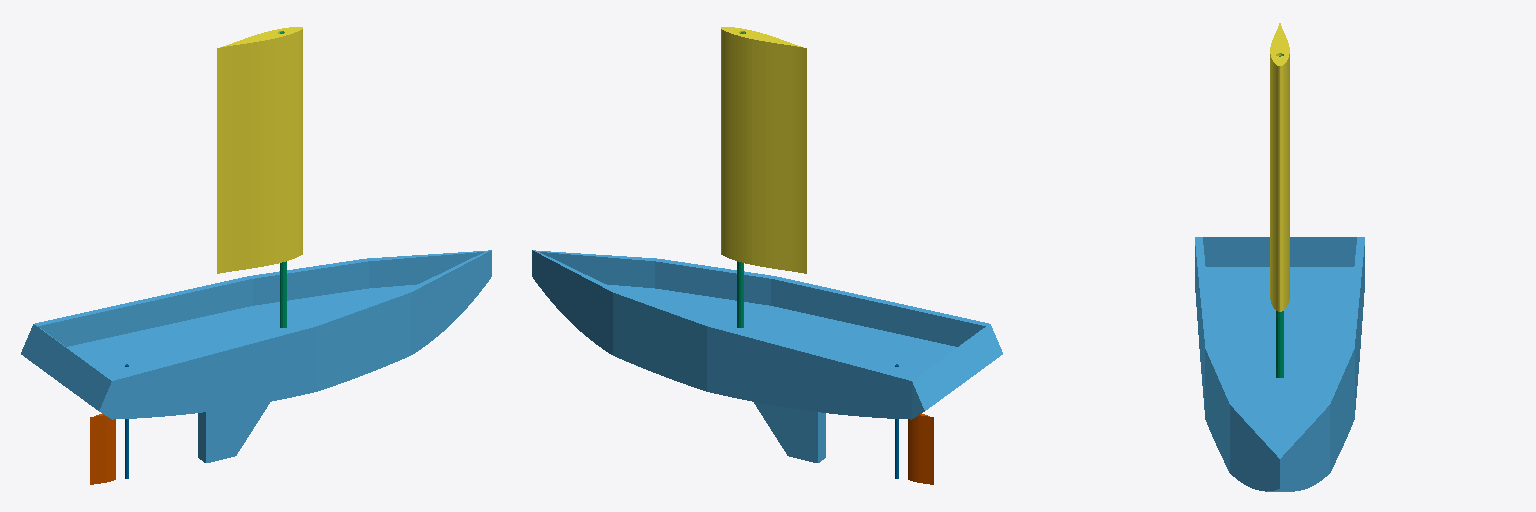
The robot description file, URDF, robot "stintboat":
<?xml version="1.0"?>
<robot name="stintboat">

<!-- LINKS -->
<!-- Based on format described in: https://classic.gazebosim.org/tutorials?tut=ros_urdf  -->
<!-- Inertial and origin values where taken from the Fusion360 model. -->
  <link name="dummy_link">
  </link>

<!-- Hull -->
  <link name="base_link">
    <inertial>
      <mass value="204.1612"/>
      <inertia ixx="6.489236" ixy="-0.002075" ixz="0.793396" iyy="43.15021" iyz="-0.000481" izz="47.153377"/>
    </inertial>
    <visual>
      <geometry>
        <mesh filename="package://stintboat_description/meshes/hull.dae"/>
      </geometry>
    </visual>
    <collision>
      <geometry>
        <mesh filename="package://stintboat_description/meshes/hull.dae"/>
      </geometry>
    </collision>
  </link>

<!-- Mast -->
  <link name="mast_link">
    <inertial>
      <mass value="1.2864"/>
      <inertia ixx="0.181252" ixy="0.0" ixz="0.0" iyy="0.181252" iyz="0.0" izz="0.000145"/>
    </inertial>
    <visual>
      <geometry>
        <mesh filename="package://stintboat_description/meshes/mast.dae"/>
      </geometry>
      <origin xyz="0.00957 0 0.003"/>
    </visual>
    <collision>
      <geometry>
        <mesh filename="package://stintboat_description/meshes/mast.dae"/>
      </geometry>
      <origin xyz="0.00957 0 0.003"/>
    </collision>
  </link>

<!-- Sail -->
  <link name="sail_link">
    <inertial>
      <mass value="24.592097"/>
      <inertia ixx="2.056729" ixy="0.0" ixz="0.0" iyy="2.235259" iyz="0.0" izz="0.193305"/>
    </inertial>
    <visual>
      <geometry>
        <mesh filename="package://stintboat_description/meshes/sail.dae"/>
        <origin xyz="0.00957 0 0.0080"/>
      </geometry>
    </visual>
    <collision>
      <geometry>
        <mesh filename="package://stintboat_description/meshes/sail.dae"/>
        <origin xyz="0.00957 0 0.0080"/>
      </geometry>
    </collision>
  </link>

<!-- Pole -->
  <link name="pole_link">
    <inertial>
      <mass value="0.2"/>
      <inertia ixx="0.0174" ixy="0.0" ixz="0.0" iyy="0.04834" iyz="0.0" izz="0.20834"/>
    </inertial>
    <visual>
      <geometry>
        <mesh filename="package://stintboat_description/meshes/pole.dae"/>
        <origin xyz="0.00175 0 0.0050"/>
      </geometry>
    </visual>
    <collision>
      <geometry>
        <mesh filename="package://stintboat_description/meshes/pole.dae"/>
        <origin xyz="0.00175 0 0.0050"/>
      </geometry>
    </collision>
  </link>

<!-- Rudder -->
  <link name="rudder_link">
    <inertial>
      <mass value="0.2"/>
      <inertia ixx="0.0435" ixy="0.0" ixz="0.0" iyy="0.012085" iyz="0.0" izz="0.05285"/>
    </inertial>
    <visual>
      <geometry>
        <mesh filename="package://stintboat_description/meshes/rudder.dae"/>
      </geometry>
      <origin xyz="0.00175 0 0.0030"/>
    </visual>
    <collision>
      <geometry>
        <mesh filename="package://stintboat_description/meshes/rudder.dae"/>
      </geometry>
      <origin xyz="0.00175 0 0.0030"/>
    </collision>
  </link>

<!-- LINK MATERIALS -->
  <gazebo reference="base_link">
    <material>Gazebo/Blue</material>
  </gazebo>

  <gazebo reference="mast_link">
    <material>Gazebo/Gray</material>
  </gazebo>

  <gazebo reference="sail_link">
    <material>Gazebo/White</material>
  </gazebo>

  <gazebo reference="pole_link">
    <material>Gazebo/Gray</material>
  </gazebo>

  <gazebo reference="rudder_link">
    <material>Gazebo/White</material>
  </gazebo>

<!-- JOINTS -->
<!-- Based on format described in: http://wiki.ros.org/urdf/XML/joint -->
  <joint name="dummy_joint" type="fixed">
    <parent link="dummy_link"/>
    <child link="base_link"/>
  </joint>

  <joint name="base_mast_joint" type="revolute">
    <parent link="base_link"/>
    <child link="mast_link"/>
    <axis xyz="0.0 0.0 1.0"/>
    <origin xyz="0.00957 0 0.003"/>
    <limit lower="0.0" upper="0.0" effort="0.0" velocity="0.0"/>
  </joint>

  <joint name="mast_sail_joint" type="fixed">
    <parent link="mast_link"/>
    <child link="sail_link"/>
    <origin xyz="0.0 0.0 0.0080"/>
  </joint>

  <joint name="base_pole_joint" type="revolute">
    <parent link="base_link"/>
    <child link="pole_link"/>
    <axis xyz="0.0 0.0 1.0"/>
    <origin xyz="0.00175 0 0.0050"/>
    <limit lower="0.0" upper="0.0" effort="0.0" velocity="0.0"/>
  </joint>

  <joint name="pole_rudder_joint" type="fixed">
    <parent link="pole_link"/>
    <child link="rudder_link"/>
    <axis xyz="0.0 0.0 1.0"/>
    <origin xyz="0.00175 0 0.0050"/>
  </joint>

<!-- TRANSMISSION ELEMENTS -->
<!-- Based on format described in: https://wiki.ros.org/urdf/XML/Transmission -->
  <transmission name="sail_trans">
    <type>transmission_interface/SimpleTransmission</type>
    <joint name="base_mast_joint">
      <hardwareInterface>hardware_interface/PositionJointInterface</hardwareInterface>
    </joint>
    <actuator name="mast_motor">
      <mechanicalReduction>1</mechanicalReduction>
    </actuator>
  </transmission>

  <transmission name="rudder_trans">
    <type>transmission_interface/SimpleTransmission</type>
    <joint name="base_pole_joint">
      <hardwareInterface>hardware_interface/PositionJointInterface</hardwareInterface>
    </joint>
    <actuator name="rudder_motor">
      <mechanicalReduction>1</mechanicalReduction>
    </actuator>
  </transmission>

<!-- PLUGINS -->
<!-- Plugin: gazebo_ros_control  -->
<!-- Based on format described in: https://github.com/ros-simulation/gazebo_ros_pkgs  -->
  <gazebo>
    <plugin name="gazebo_ros_control" filename="libgazebo_ros_control.so">
      <robotNamespace>/stintboat</robotNamespace>
    </plugin>
  </gazebo>
<!-- Plugin: usv_gazebo_dynamics_plugin  -->
<!-- Based on format described in: http://wiki.ros.org/usv_gazebo_plugins -->
  <gazebo>
    <plugin filename="libusv_gazebo_dynamics_plugin.so" name="usv_dynamics_wamv_dynamics_plugin">
      <bodyName>base_link</bodyName>
      <waterLevel>-0.3</waterLevel>
      <waterDensity>997.8</waterDensity>
<!-- Added mass -->
      <xDotU>0.0</xDotU>
      <yDotV>0.0</yDotV>
      <nDotR>0.0</nDotR>
<!-- Linear and quadratic drag -->
      <xU>51.3</xU>
      <xUU>72.4</xUU>
      <yV>40.0</yV>
      <yVV>0.0</yVV>
      <zW>500.0</zW>
      <kP>50.0</kP>
      <mQ>50.0</mQ>
      <nR>400.0</nR>
      <nRR>0.0</nRR>
<!-- General dimensions -->
      <boatArea>3.674</boatArea>
      <hullRadius>0.213</hullRadius>
      <boatWidth>0.63</boatWidth>
      <boatLength>2.001</boatLength>
<!-- Length discretization, AKA, "N" -->
      <length_n>2</length_n>
<!-- Wave model -->
      <wave_model>ocean_waves</wave_model>
    </plugin>
  </gazebo>
<!--Plugin: usv_gazebo_wind_plugin -->
  <gazebo>
    <plugin filename="libusv_gazebo_wind_plugin.so" name="wind">
<!-- models to be effected by the wind -->
      <wind_obj>
        <name>wamv</name>
        <link_name>base_link</link_name>
        <coeff_vector>0.5 0.5 0.33</coeff_vector>
      </wind_obj>
<!-- Wind -->
      <wind_direction>270</wind_direction>
<!-- in degrees -->
      <wind_mean_velocity>10</wind_mean_velocity>
      <var_wind_gain_constants>100</var_wind_gain_constants>
      <var_wind_time_constants>5</var_wind_time_constants>
      <random_seed></random_seed>
<!-- set to zero/empty to randomize -->
      <update_rate>10</update_rate>
    </plugin>
  </gazebo>
</robot>

--- Render facts (derived) ---
3 views of the same robot in one strip: view 1: azimuth 30°, elevation 25°; view 2: azimuth 150°, elevation 25°; view 3: azimuth 270°, elevation 25° (orthographic).
Model stintboat with 6 links and 5 joints (2 revolute, 3 fixed), rooted at dummy_link, posed all joints at 0.
Visible links, largest first — view 1: base_link, sail_link, rudder_link; view 2: base_link, sail_link, rudder_link; view 3: base_link, sail_link, mast_link.
Boxes of the visible links, <box> form: base_link: <box>21,250,491,462</box>; sail_link: <box>217,27,302,273</box>; rudder_link: <box>90,414,115,484</box>; base_link: <box>532,250,1002,462</box>; sail_link: <box>721,27,806,273</box>; rudder_link: <box>908,414,933,484</box>; base_link: <box>1195,237,1364,491</box>; sail_link: <box>1270,23,1289,311</box>; mast_link: <box>1276,56,1283,377</box>.
Bounding box of the posed robot: 2 × 0.63 × 1.81 m (x, y, z).
5 mesh visuals loaded from 5 distinct referenced files (5 Collada DAE).
